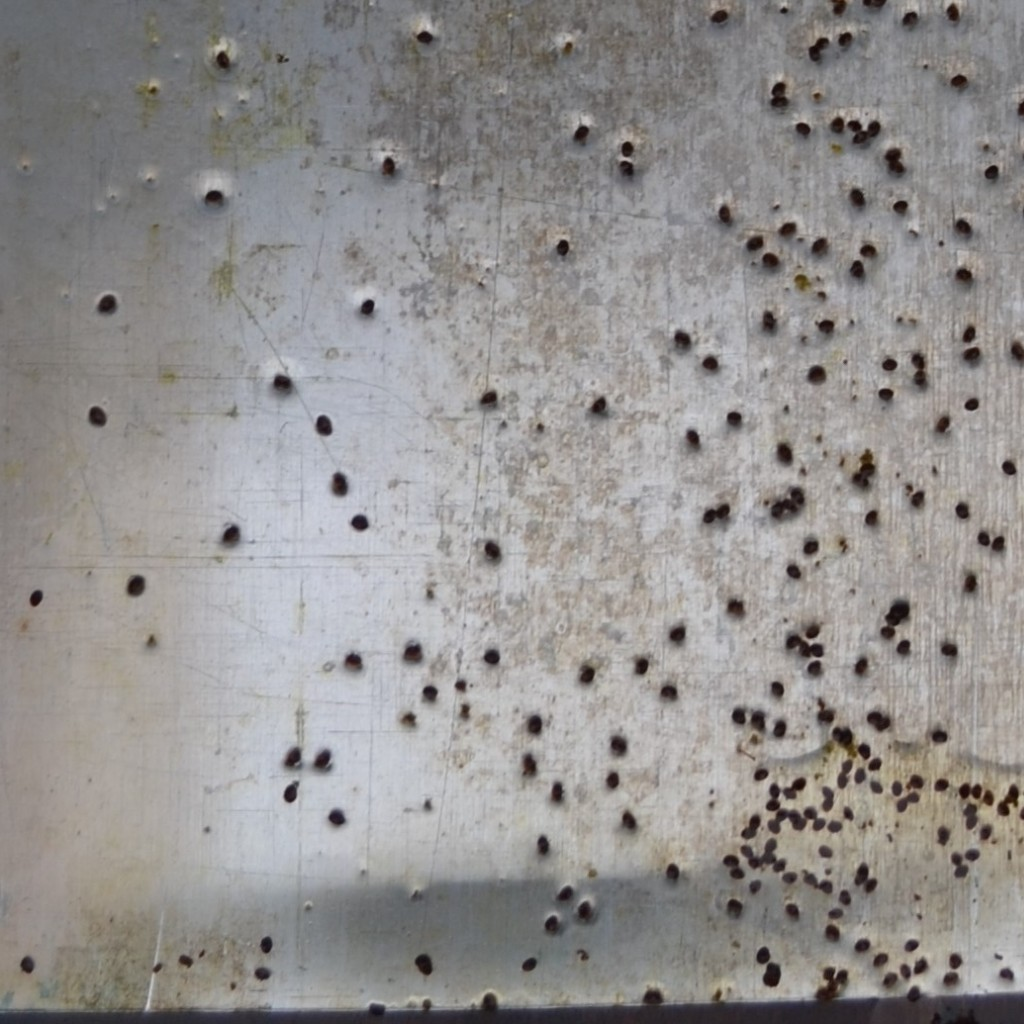varroa: (270, 366, 296, 399), (803, 360, 828, 390), (217, 519, 241, 550), (281, 741, 305, 771), (123, 570, 147, 599), (356, 292, 380, 320), (759, 304, 779, 336), (640, 981, 664, 1007), (325, 804, 349, 829), (95, 290, 118, 316), (811, 314, 839, 335), (479, 983, 499, 1012), (330, 468, 349, 498), (413, 949, 434, 976), (521, 749, 538, 782), (314, 746, 334, 774), (86, 404, 108, 429), (314, 410, 334, 437), (401, 640, 424, 663), (349, 510, 370, 535), (521, 953, 540, 980), (343, 648, 365, 671), (722, 897, 743, 921), (617, 155, 637, 180), (822, 921, 842, 946), (610, 731, 629, 757), (379, 149, 397, 176), (524, 709, 542, 736), (420, 678, 438, 705), (620, 808, 638, 835), (788, 483, 806, 510), (482, 536, 502, 560), (747, 710, 767, 734), (575, 897, 594, 922), (587, 391, 606, 416), (672, 327, 691, 352), (900, 5, 918, 31), (479, 386, 500, 408), (364, 996, 387, 1016), (745, 230, 765, 253), (961, 568, 978, 595), (572, 121, 590, 146), (849, 185, 867, 210), (908, 486, 926, 511), (726, 593, 744, 618), (549, 779, 566, 805), (203, 187, 225, 207), (939, 639, 959, 661), (658, 680, 678, 702), (555, 881, 574, 904), (668, 621, 687, 644), (782, 898, 801, 921), (554, 233, 570, 260), (907, 768, 925, 792), (746, 874, 763, 899), (414, 26, 435, 46), (761, 250, 780, 272), (852, 935, 871, 957), (729, 705, 748, 727), (769, 717, 788, 739), (536, 831, 552, 857), (619, 136, 637, 159), (282, 780, 300, 803), (949, 68, 967, 91), (982, 159, 1000, 182), (775, 442, 793, 465), (934, 411, 951, 435), (716, 201, 732, 226), (709, 6, 729, 26), (816, 706, 836, 726), (954, 216, 973, 237), (777, 219, 798, 238), (578, 665, 597, 686), (850, 468, 869, 489), (755, 945, 774, 966), (961, 322, 979, 344), (889, 600, 911, 618), (883, 608, 905, 626), (802, 534, 820, 556), (852, 655, 870, 677), (1002, 783, 1020, 805), (905, 982, 923, 1004), (880, 970, 898, 992), (826, 817, 844, 839), (543, 912, 560, 935), (848, 256, 865, 279), (701, 504, 718, 527), (804, 618, 821, 641), (935, 823, 951, 847), (853, 862, 869, 886), (813, 985, 837, 1001), (26, 587, 45, 607), (962, 343, 981, 363), (891, 195, 910, 215), (954, 501, 972, 522), (810, 234, 828, 255), (874, 385, 895, 403), (784, 631, 802, 652), (947, 949, 965, 970), (605, 769, 622, 791), (258, 932, 274, 955), (859, 240, 878, 259), (781, 497, 800, 516), (214, 47, 229, 71), (828, 114, 846, 134), (701, 353, 719, 373), (725, 408, 743, 428), (930, 725, 948, 745), (785, 560, 802, 581), (761, 971, 782, 988), (20, 953, 36, 975), (685, 425, 701, 447), (790, 770, 806, 792), (482, 646, 500, 665), (811, 33, 829, 52), (769, 500, 787, 519), (721, 851, 740, 869), (945, 2, 962, 22), (887, 158, 907, 175), (872, 950, 889, 970), (766, 815, 783, 835), (738, 823, 758, 840), (991, 533, 1007, 554), (837, 27, 853, 48), (868, 776, 884, 797), (730, 864, 746, 885), (770, 677, 785, 699), (771, 80, 789, 98), (846, 116, 865, 133), (634, 656, 651, 675), (933, 775, 950, 794), (962, 812, 979, 831), (903, 937, 920, 956), (912, 956, 929, 975), (893, 796, 910, 815), (857, 740, 871, 763), (835, 770, 851, 790), (826, 904, 846, 920), (895, 637, 910, 658), (819, 877, 834, 898), (1010, 338, 1023, 362), (867, 117, 881, 139), (794, 120, 812, 137), (859, 460, 876, 478), (865, 706, 882, 724), (837, 888, 854, 906), (817, 842, 835, 859), (802, 870, 819, 888), (997, 966, 1016, 982), (820, 961, 836, 980), (811, 815, 827, 834), (751, 766, 770, 782), (770, 94, 790, 109), (883, 146, 903, 161), (979, 822, 994, 842), (853, 765, 868, 785), (665, 860, 679, 881), (1000, 459, 1017, 476), (881, 355, 898, 372), (964, 395, 980, 413), (911, 370, 929, 386), (851, 129, 867, 147), (942, 971, 960, 987), (819, 782, 835, 800), (803, 804, 819, 822), (863, 877, 878, 896), (865, 508, 879, 528), (840, 757, 854, 777), (767, 780, 781, 800), (763, 835, 777, 855), (808, 43, 821, 64), (911, 352, 927, 369), (806, 659, 822, 676), (962, 801, 979, 817), (867, 755, 883, 772), (253, 966, 271, 981), (809, 640, 824, 658), (949, 849, 964, 867), (764, 961, 782, 976), (782, 784, 797, 802), (740, 842, 755, 860), (958, 781, 972, 800), (899, 961, 913, 980), (748, 811, 762, 830), (977, 528, 990, 548), (836, 967, 849, 987), (821, 798, 837, 814), (956, 266, 973, 281), (964, 846, 981, 861), (781, 869, 798, 884), (880, 624, 894, 642), (831, 727, 845, 745), (790, 817, 808, 831), (772, 858, 786, 876), (717, 502, 730, 521), (982, 789, 995, 808), (842, 804, 855, 823), (842, 727, 853, 749), (891, 778, 903, 797), (876, 719, 891, 734), (954, 865, 969, 880), (761, 851, 776, 866), (833, 2, 847, 18), (970, 782, 983, 799), (799, 641, 811, 659), (1013, 96, 1023, 117), (762, 799, 781, 810), (997, 801, 1010, 817), (746, 857, 763, 869), (906, 789, 919, 804), (788, 809, 803, 822), (871, 1, 890, 11), (826, 978, 839, 992), (777, 807, 787, 822), (1018, 803, 1023, 820)
